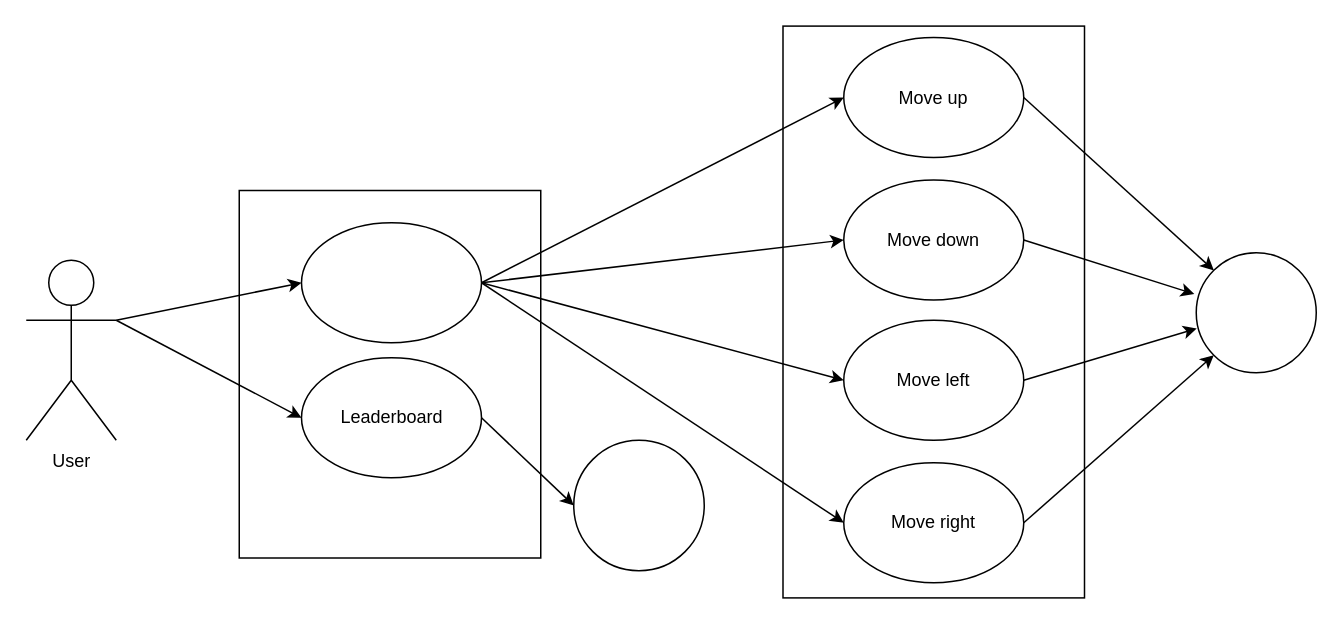
Some shapes in this 1343 by 626 pixel diagram are drawn without their labels. Here are the shapes that lost their labels. From the top down, the centre of each, then its label:
At [391,282]: "Start Game".
At [1255,312]: "Player character changes pos.".
At [638,505]: "Display Leaderboard".
